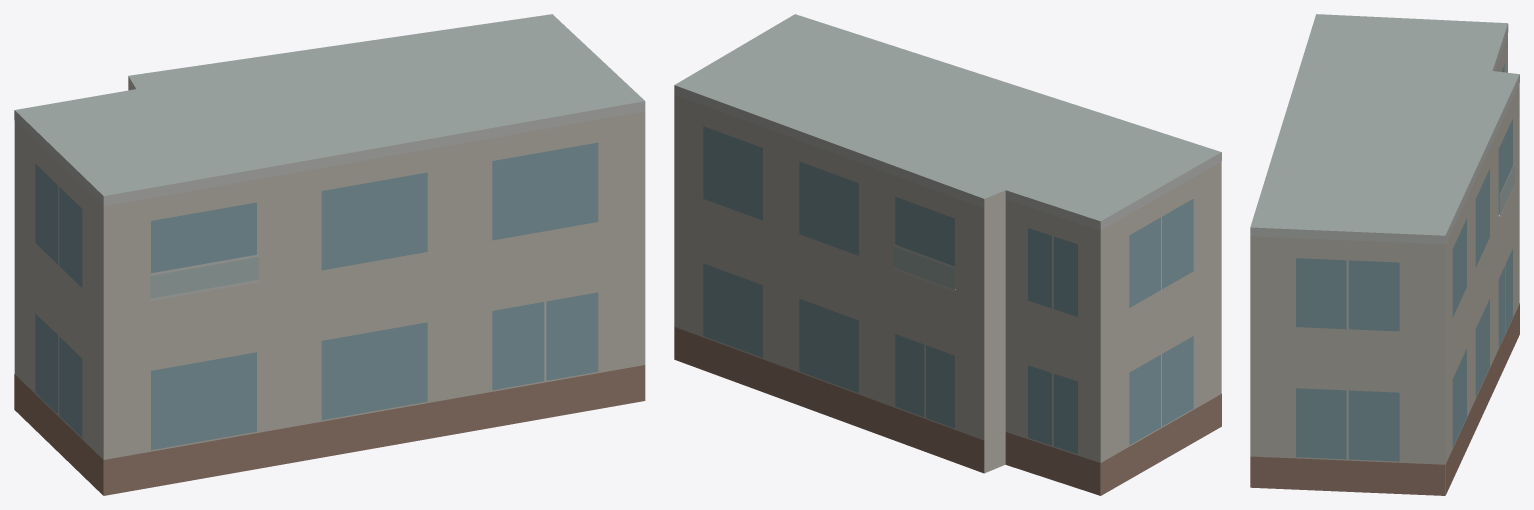
File: survey-upis-32500329.glb
3 renders of one model, left to right at view 1: azimuth 30°, elevation 25°; view 2: azimuth 150°, elevation 25°; view 3: azimuth 270°, elevation 25°, orthographic. The views are drawn at different scales.
Parts seen in each view (by area): view 1: survey-upis-32500329.tmp; view 2: survey-upis-32500329.tmp; view 3: survey-upis-32500329.tmp.
Part boxes in pixels (bbox=[...]): survey-upis-32500329.tmp: bbox=[14, 14, 645, 495]; survey-upis-32500329.tmp: bbox=[674, 14, 1221, 495]; survey-upis-32500329.tmp: bbox=[1250, 14, 1519, 495].
Size of the model in its own units: 13.17 by 7.2 by 6.77.
